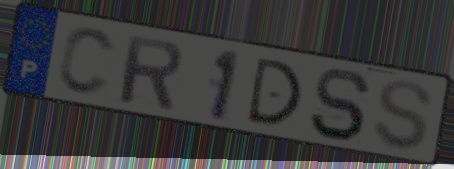1: (210, 47, 242, 124)
C: (54, 25, 119, 99)
D: (243, 55, 305, 128)
R: (117, 31, 185, 112)
S: (306, 66, 374, 144), (370, 78, 435, 153)
